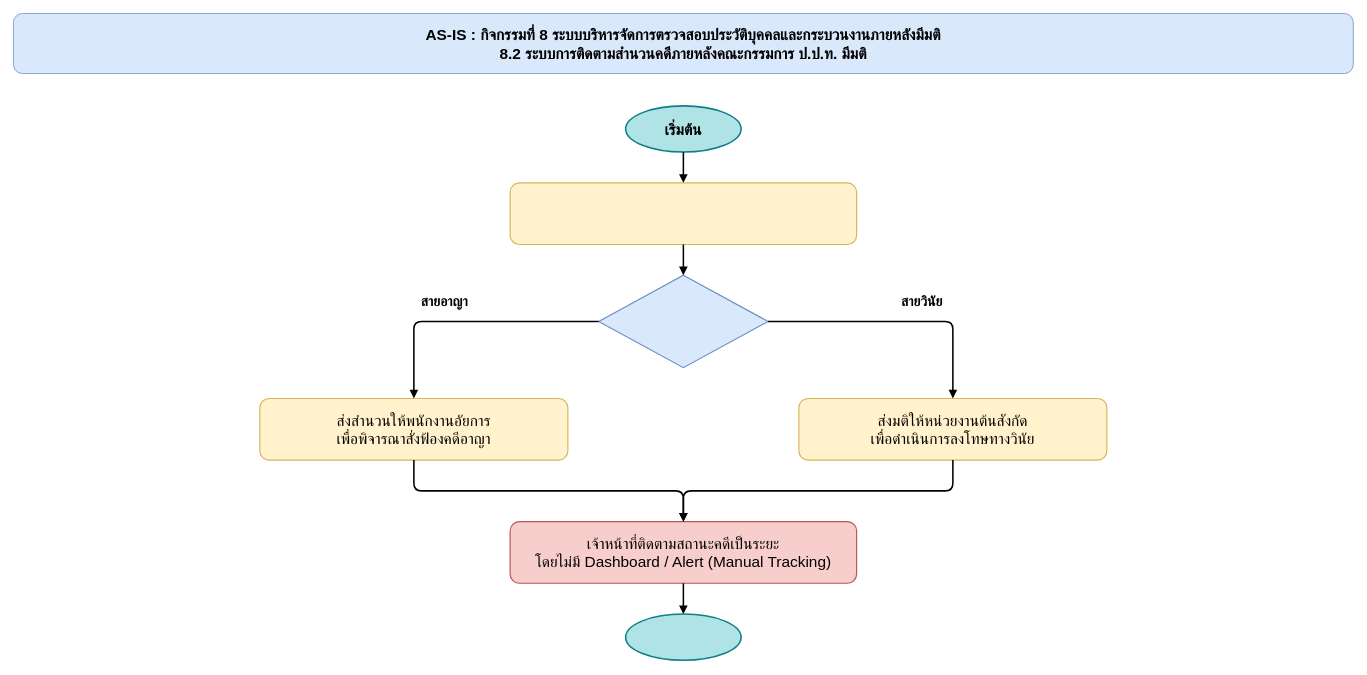
Image size: 1367x675. Some labels were removed from this diagram. Here are the shapes that lost their labels. From the top down, the centre of each, then its label:
(683,213): คณะกรรมการ ป.ป.ท. (บอร์ด) มีมติชี้มูลความผิด (สายอาญา และ/หรือ สายวินัย)
(683,321): ประเภทมติ?
(683,637): สิ้นสุด
